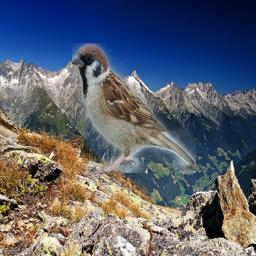Sparrow: (72, 43, 196, 173)
